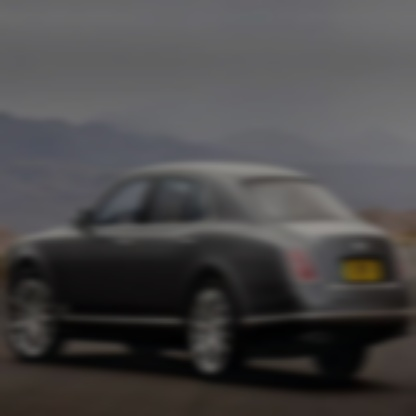Vehicle: (5, 164, 413, 382)
